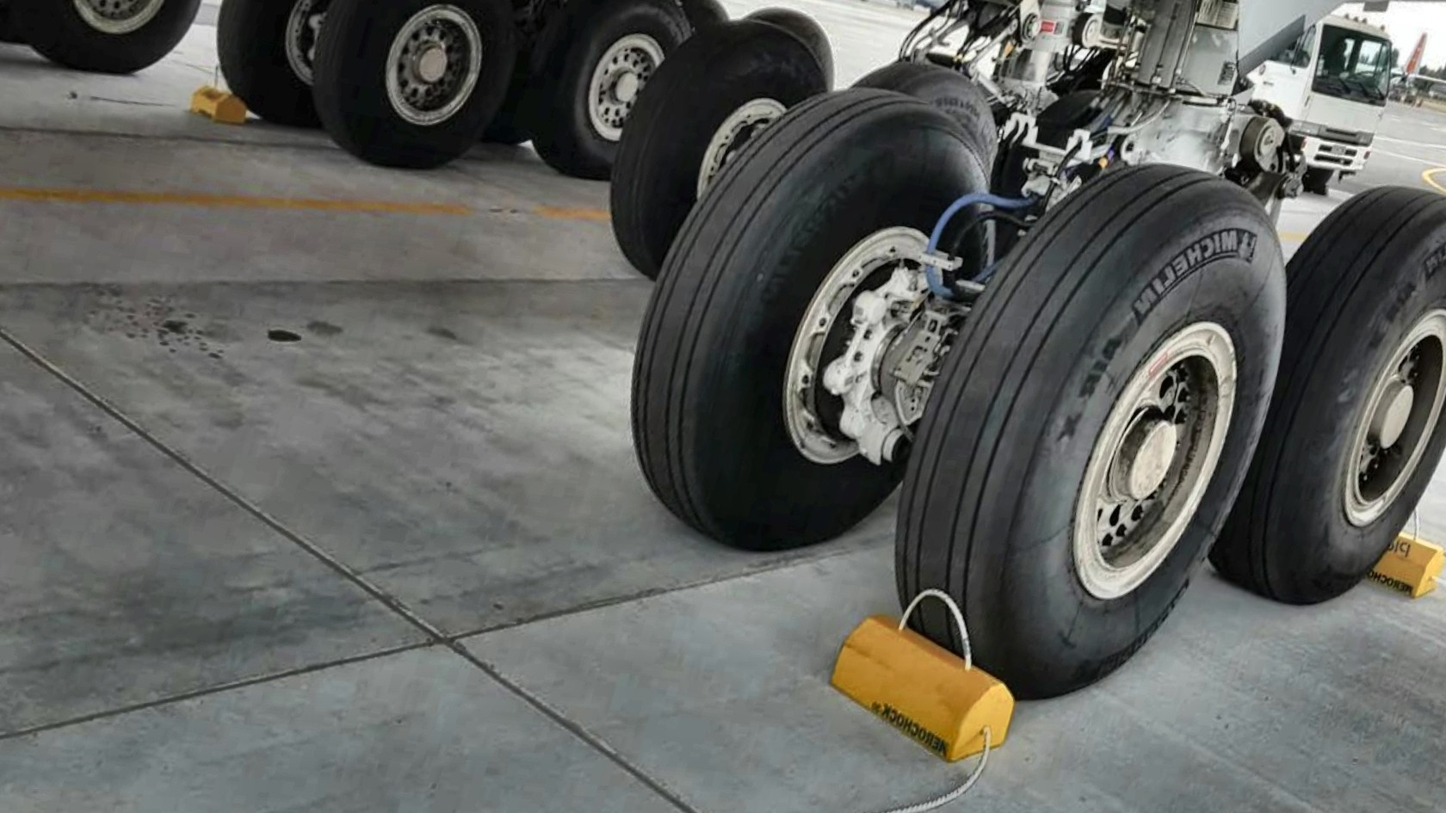chock: (804, 591, 1052, 784), (1290, 503, 1446, 616), (172, 81, 262, 135)
wheel: (834, 114, 1345, 738), (583, 38, 1042, 594), (1174, 157, 1446, 635), (582, 0, 860, 301), (290, 0, 546, 189), (501, 0, 706, 194), (185, 0, 404, 141), (451, 0, 600, 156), (833, 41, 1017, 165), (0, 0, 235, 92), (716, 0, 853, 91)
